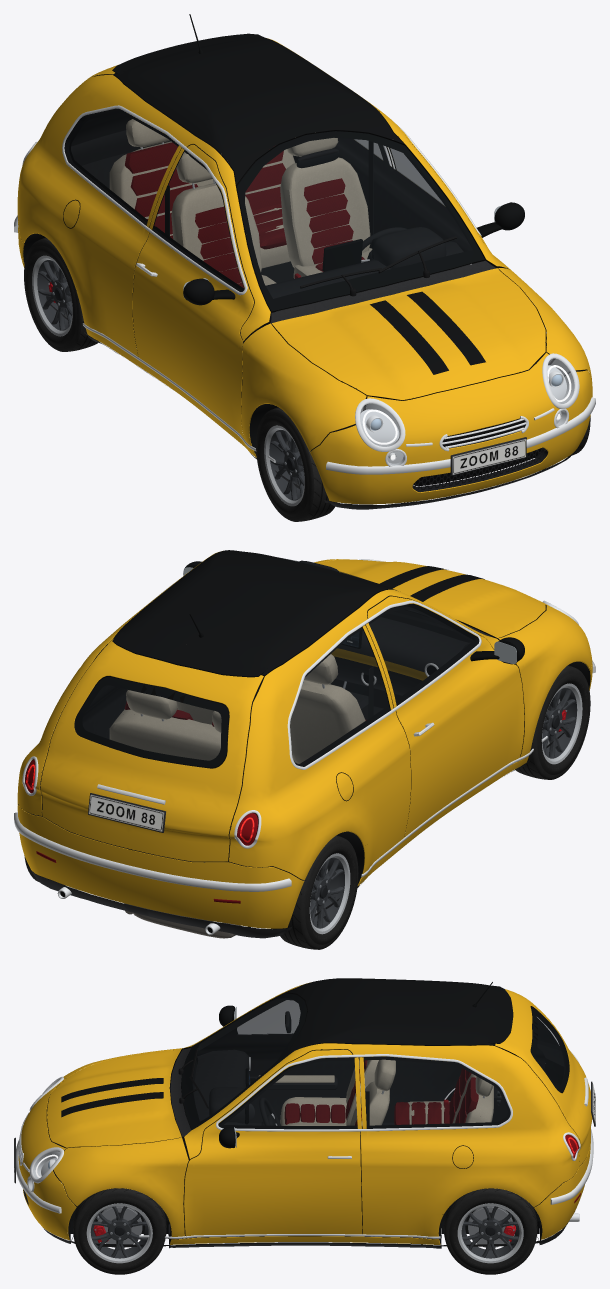
File: pocket-rocket-hatch.glb
3 renders of one model, top to bottom at view 1: azimuth 30°, elevation 25°; view 2: azimuth 150°, elevation 25°; view 3: azimuth 270°, elevation 25°, orthographic. The views are drawn at different scales.
Visible parts, largest first — view 1: Body, Wheel_FR, Wheel_RR; view 2: Body, Wheel_RR, Wheel_FR; view 3: Body, Wheel_RL, Wheel_FL.
Part boxes in pixels (<box>): Body: <box>14,14,595,509</box>; Wheel_FR: <box>256,407,337,521</box>; Wheel_RR: <box>24,237,98,351</box>; Body: <box>14,550,595,938</box>; Wheel_RR: <box>280,835,358,949</box>; Wheel_FR: <box>515,665,590,779</box>; Body: <box>14,978,595,1248</box>; Wheel_RL: <box>443,1188,537,1274</box>; Wheel_FL: <box>73,1188,166,1274</box>.
Bounding box in the file's own units: 1.93 × 1.64 × 3.59.
Materials: 57 (11 with a texture image).
